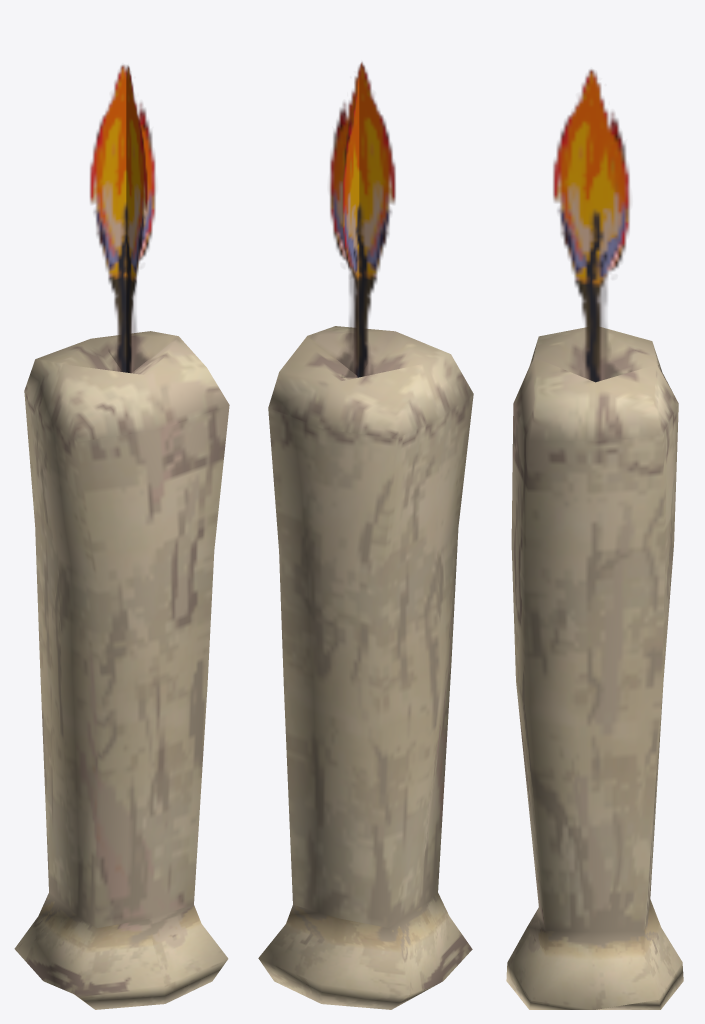
Rendered from vela003.glb.
The picture shows the model from 3 angles, left to right: view 1: azimuth 30°, elevation 25°; view 2: azimuth 150°, elevation 25°; view 3: azimuth 270°, elevation 25°; orthographic projection.
Visible parts, largest first — view 1: vela1_geo3, pavio1_geo2, pavio01_geo2; view 2: vela1_geo3, pavio1_geo2, pavio01_geo2; view 3: vela1_geo3, pavio01_geo2.
Part boxes in pixels (bbox=[...]): vela1_geo3: bbox=[14, 331, 229, 1009]; pavio1_geo2: bbox=[90, 65, 155, 372]; pavio01_geo2: bbox=[109, 66, 147, 372]; vela1_geo3: bbox=[258, 326, 473, 1009]; pavio1_geo2: bbox=[329, 65, 395, 377]; pavio01_geo2: bbox=[342, 62, 362, 377]; vela1_geo3: bbox=[506, 327, 683, 1009]; pavio01_geo2: bbox=[553, 69, 630, 382].
Size of the model in its own units: 0.0567 by 0.3022 by 0.0556.
3 materials, 3 textured.
